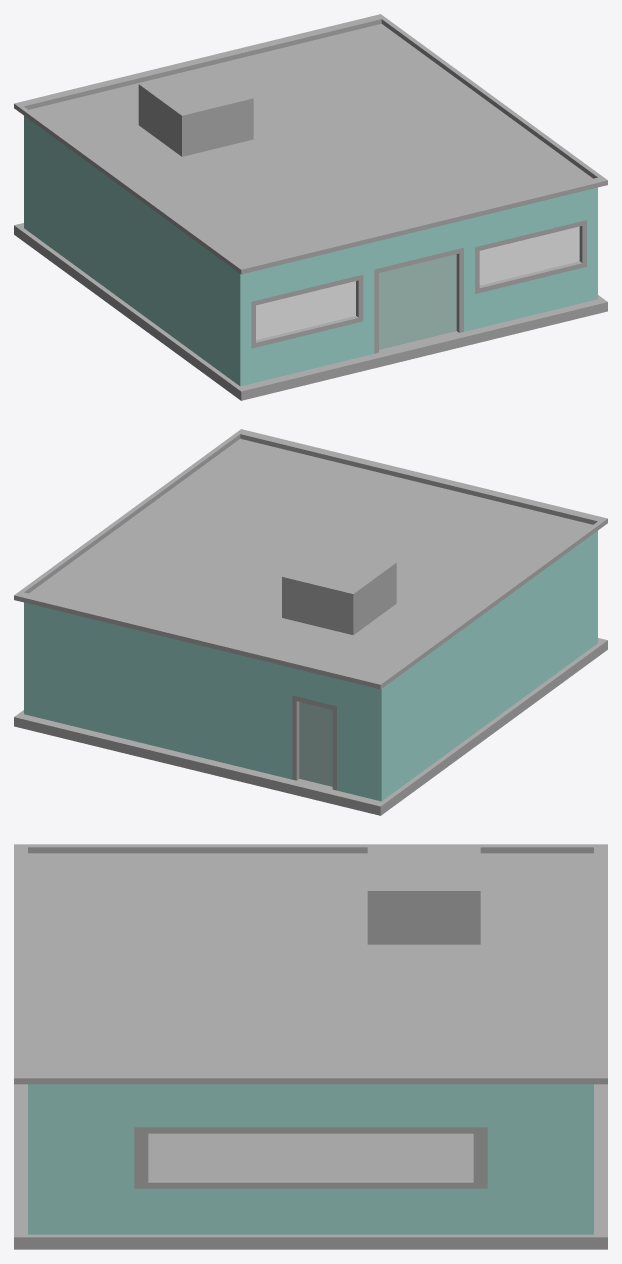
The model's file is GasStation.fbx.
The picture shows the model from 3 angles, top to bottom: view 1: azimuth 30°, elevation 25°; view 2: azimuth 150°, elevation 25°; view 3: azimuth 270°, elevation 25°; orthographic projection. The views are drawn at different scales.
Visible parts, largest first — view 1: building_001; view 2: building_001; view 3: building_001.
Boxes of the visible parts, x1,y1,x2,y2 form: building_001: [14, 14, 607, 400]; building_001: [14, 429, 607, 815]; building_001: [14, 844, 607, 1249].
Size of the model in its own units: 820 by 358 by 880.
